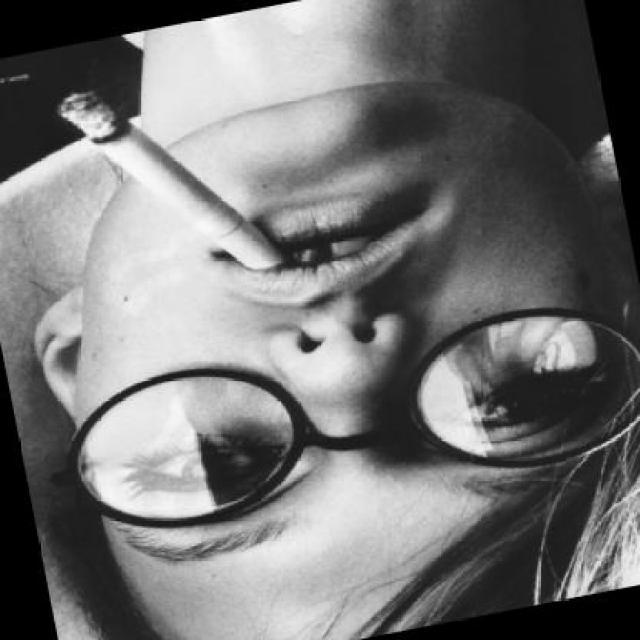smoke: (36, 49, 301, 306)
